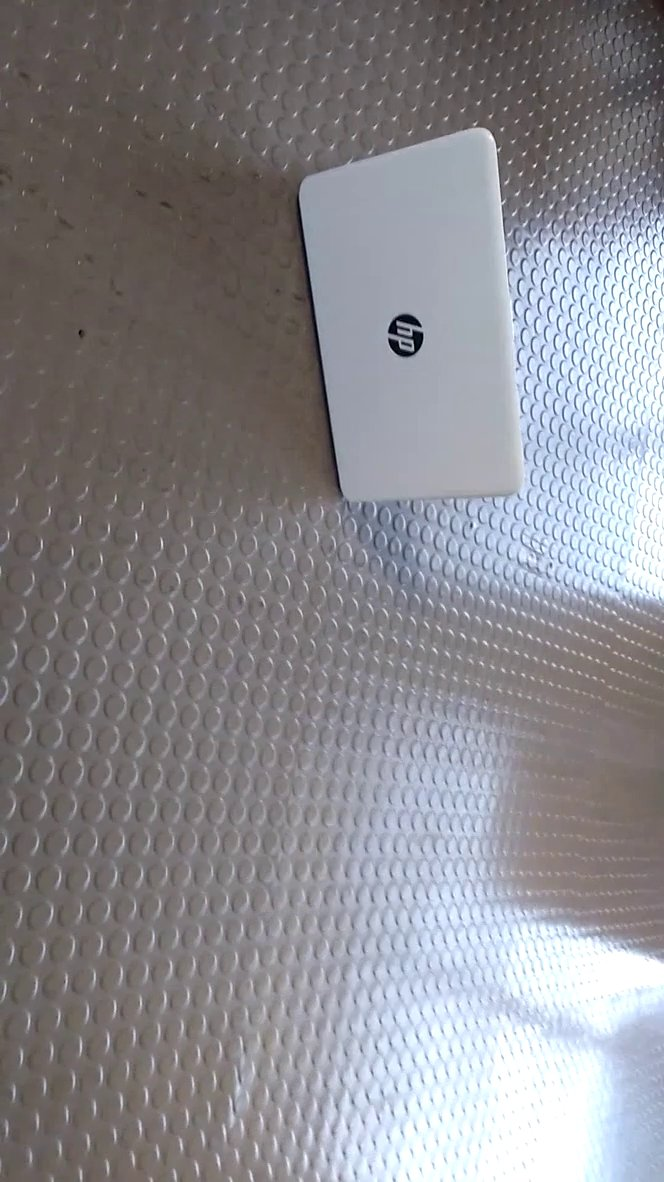laptop: (290, 122, 546, 514)
